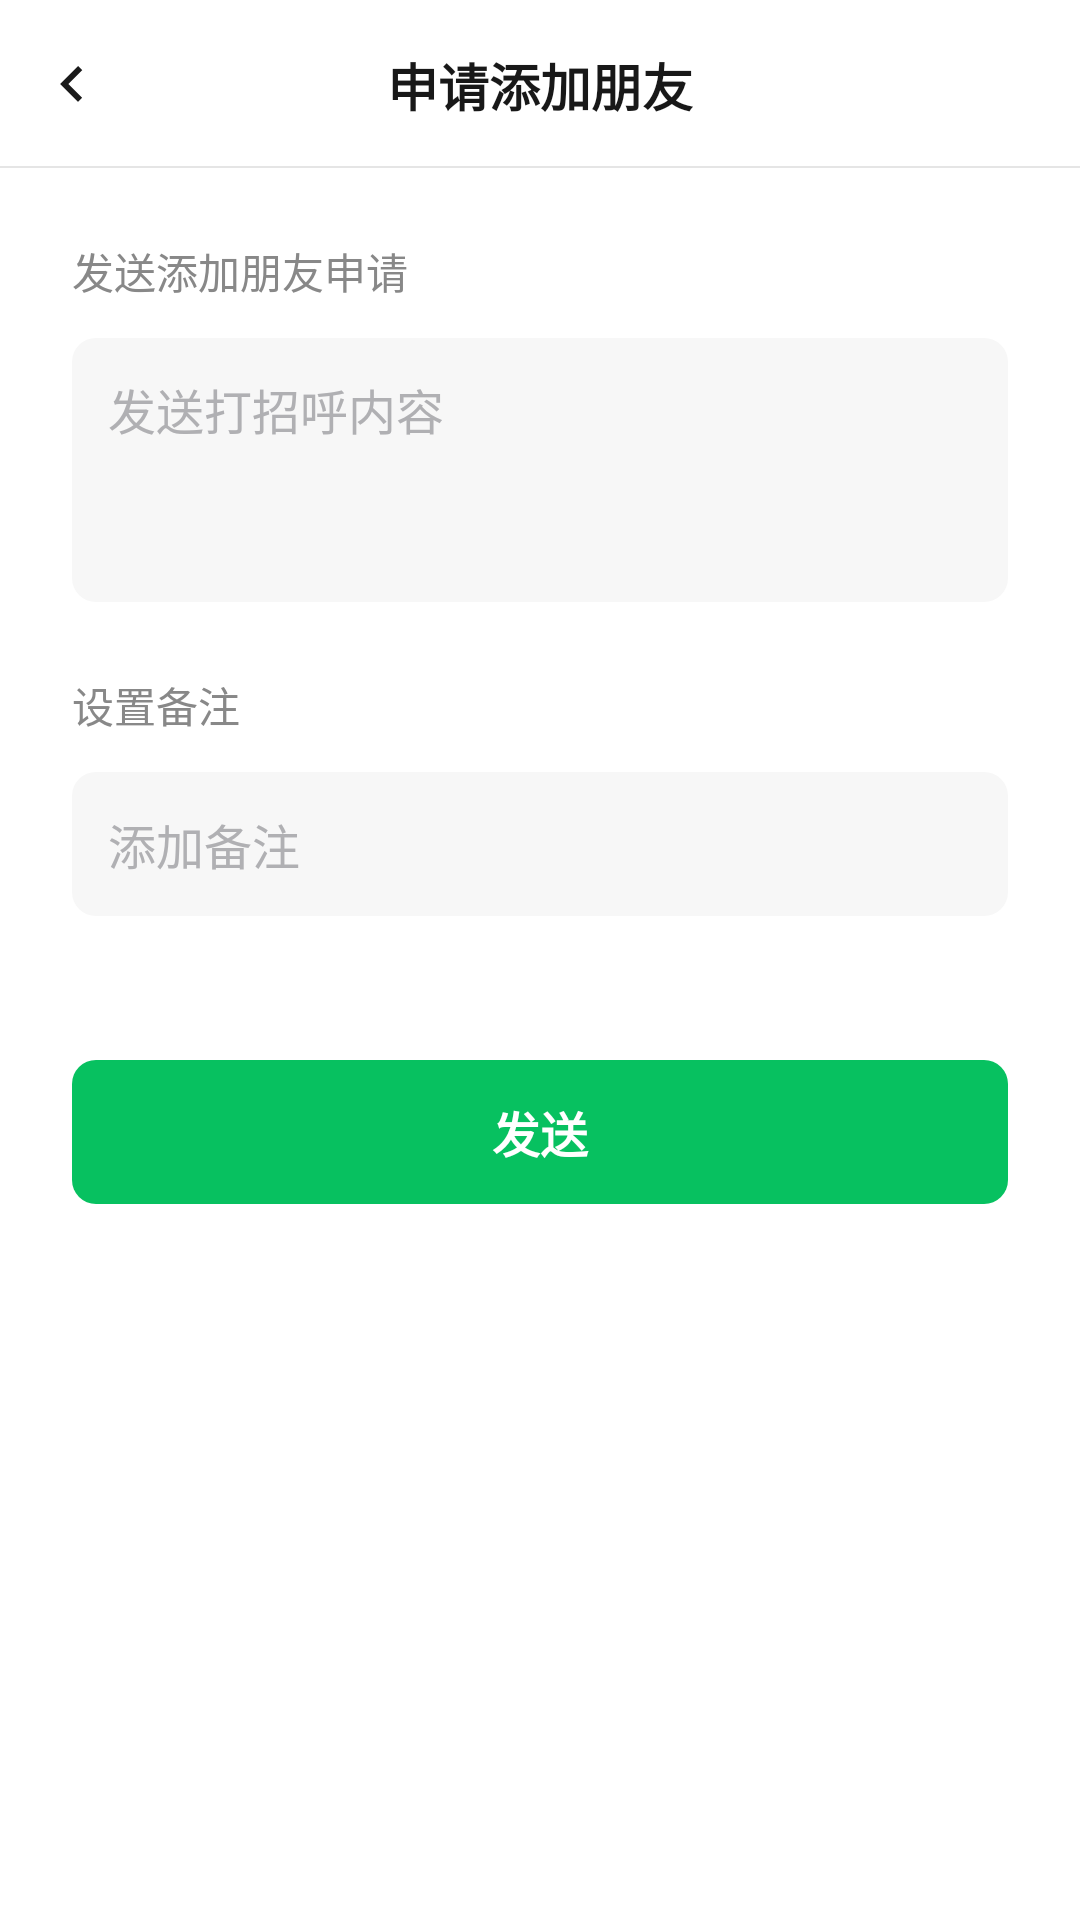

Icon click points for this 1080*1920 phone screenshot, format (x=x, y=y):
back: (x=71, y=84)
